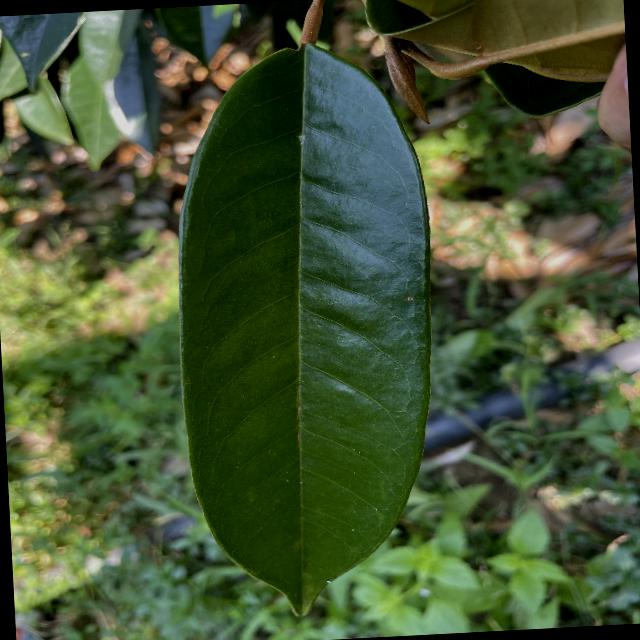No Disease: (154, 31, 460, 628)
